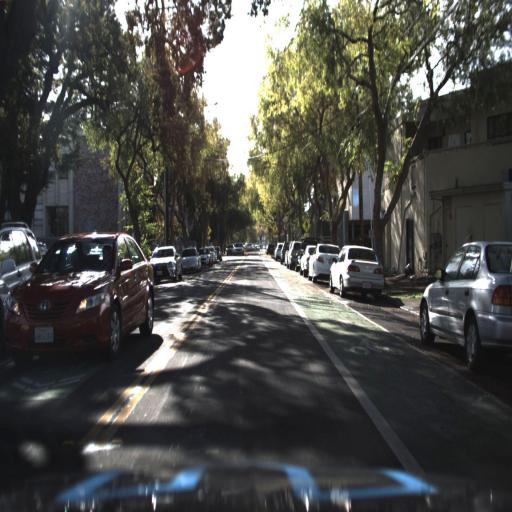car: (3, 225, 166, 380), (420, 238, 512, 380), (327, 237, 388, 305), (328, 244, 391, 296), (147, 242, 180, 286), (306, 243, 340, 281), (309, 241, 331, 283), (178, 246, 202, 274), (180, 247, 200, 277), (288, 240, 301, 267), (201, 242, 212, 268), (299, 245, 309, 270)
